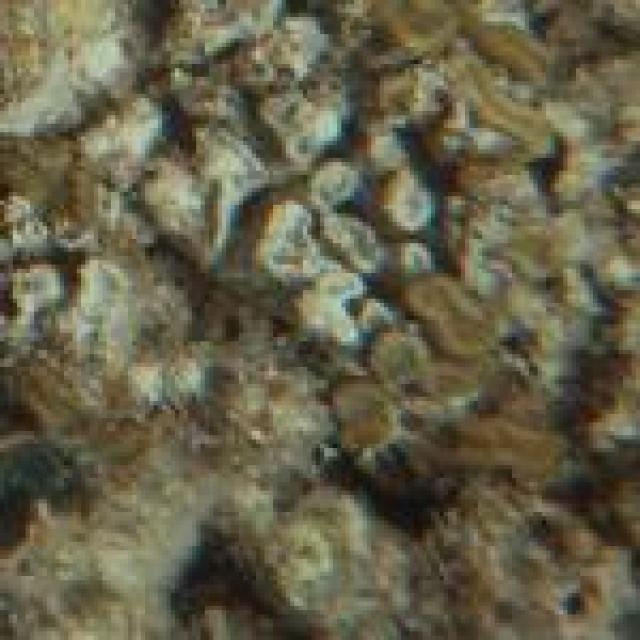Bleached Coral: (35, 4, 465, 387)
